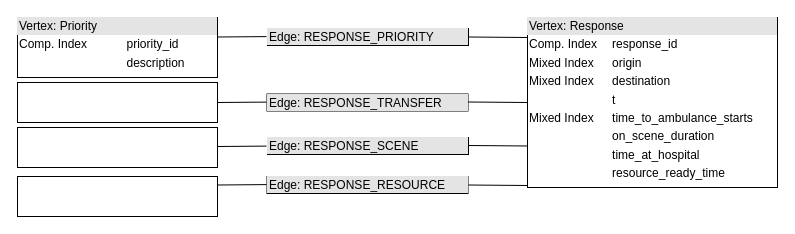
Some shapes in this 795 by 234 pixel diagram are drawn without their labels. The centre of each missing label's shape, as x and y in pixels:
Vertex: OnScene Mixed Index travel_time_station: the point at 117,147
Vertex: Resource Comp. Index resource_id: the point at 117,196
Vertex: Transfer Mixed Index travel_time_hospital: the point at 117,102
